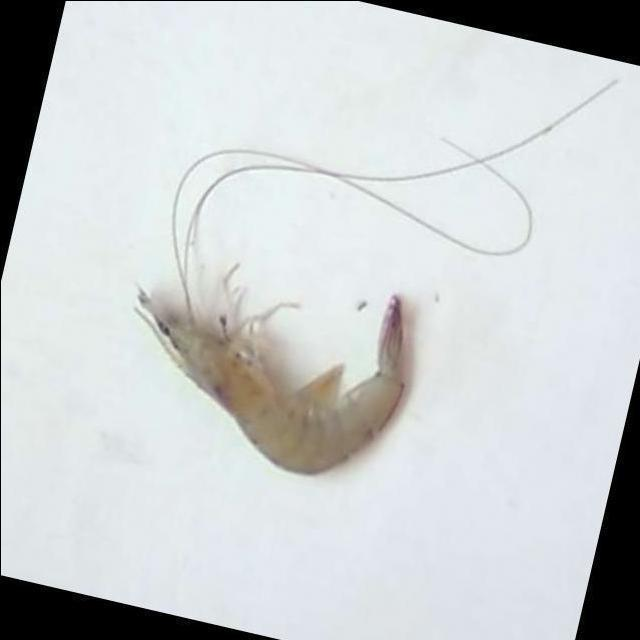shrimp: (135, 268, 405, 475)
